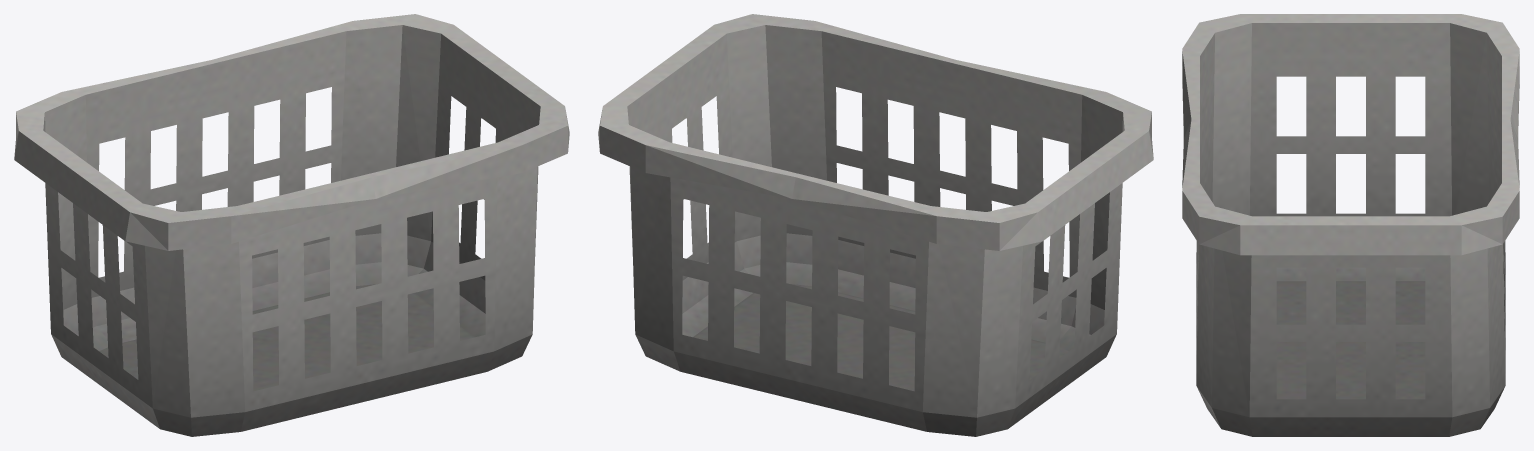
Rendered from laundry-basket_empty.obj.
3 renders of one model, left to right at view 1: azimuth 30°, elevation 25°; view 2: azimuth 150°, elevation 25°; view 3: azimuth 270°, elevation 25°, orthographic.
Visible parts, largest first — view 1: laundry-basket_empty-col; view 2: laundry-basket_empty-col; view 3: laundry-basket_empty-col.
Part boxes in pixels (<box>): laundry-basket_empty-col: <box>14,14,569,436</box>; laundry-basket_empty-col: <box>598,14,1153,436</box>; laundry-basket_empty-col: <box>1182,14,1519,436</box>.
Bounding box in the file's own units: 0.59 × 0.305 × 0.39.
